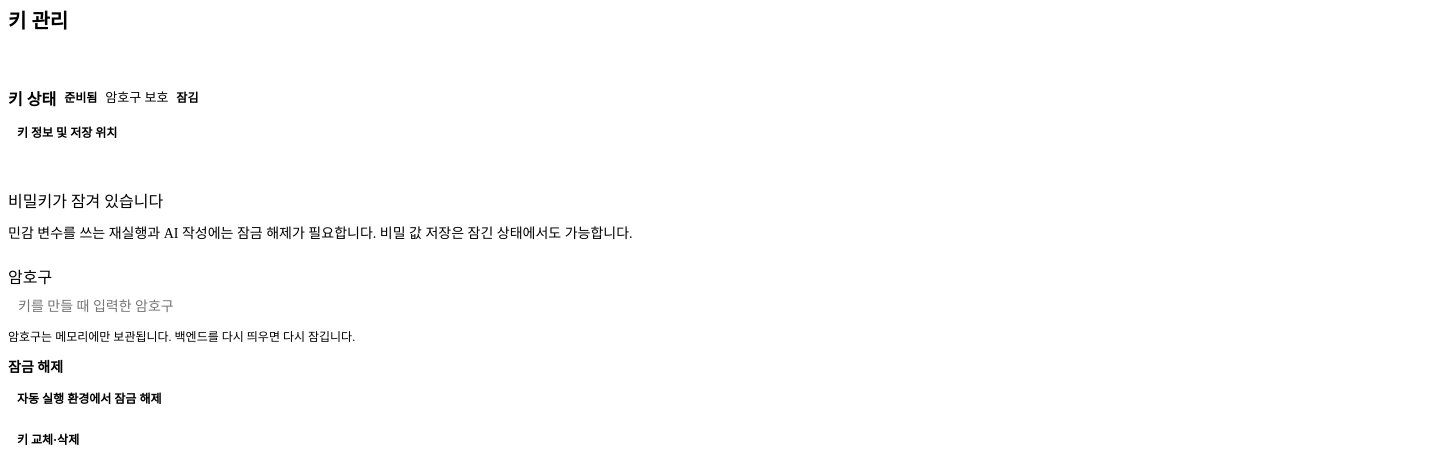
Scenario: KeyManagement — 잠금 해제 (FR-089e-3) › 암호구가 8자 미만이면 제출을 막는다 — 서버 제약과 같은 값이다
The width and height of the screenshot is (1440, 462).
Type "short" into the password field labelled "암호구".
click(720, 306); type("short")  # box [8,296,1432,317]
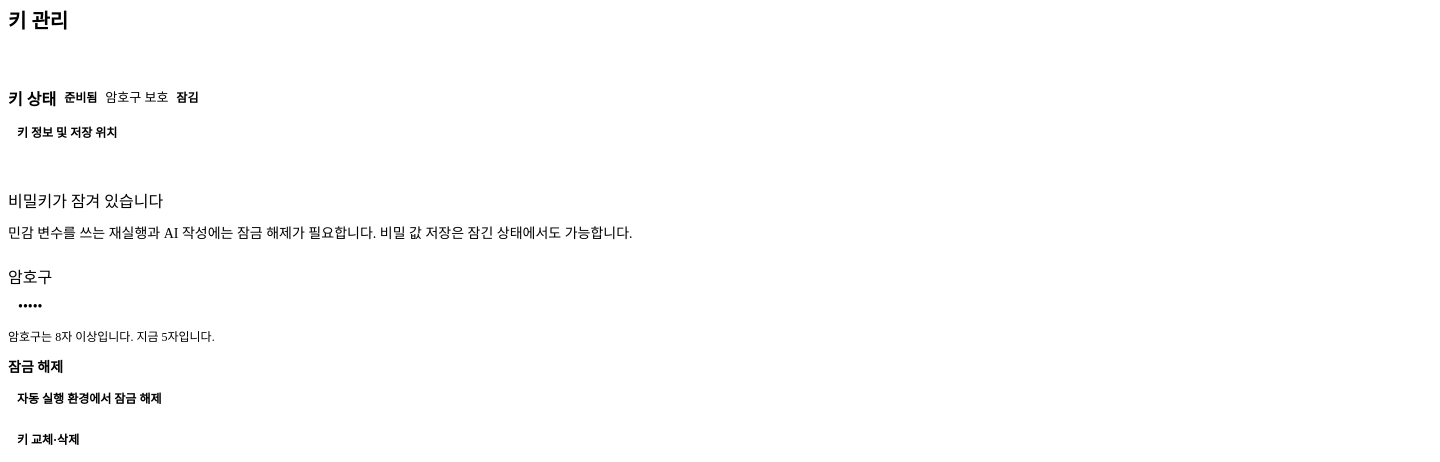
Check: the button "잠금 해제" is disabled, box [8,360,63,376]
Check: the text "암호구는 8자 이상입니다. 지금 5자입니다." is shown, box [8,330,215,344]
